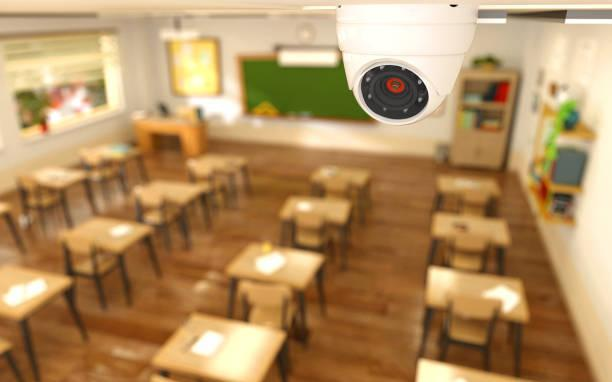camera: (321, 3, 491, 142)
